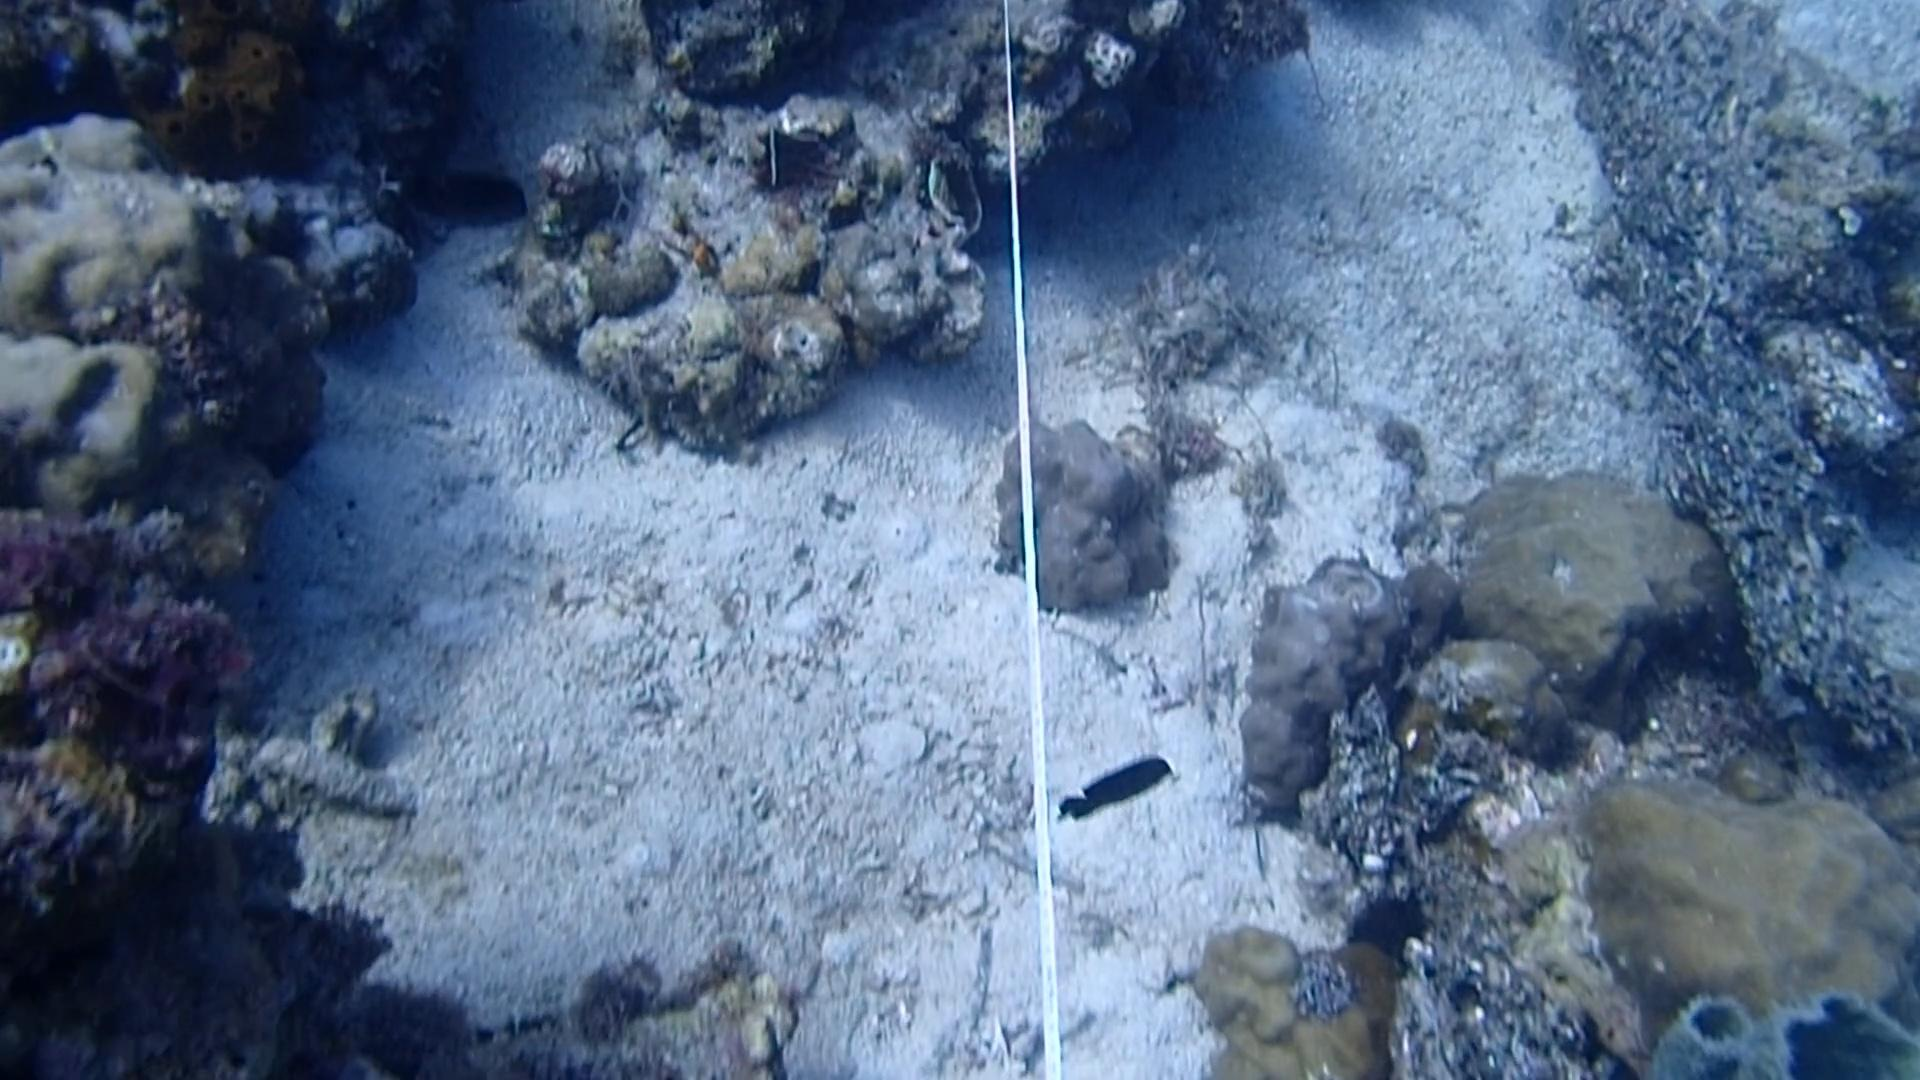Big Dark Blue Fish: (375, 136, 541, 245)
Dark Fish: (1048, 741, 1171, 831)
